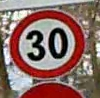limite 30: (5, 8, 85, 81)
